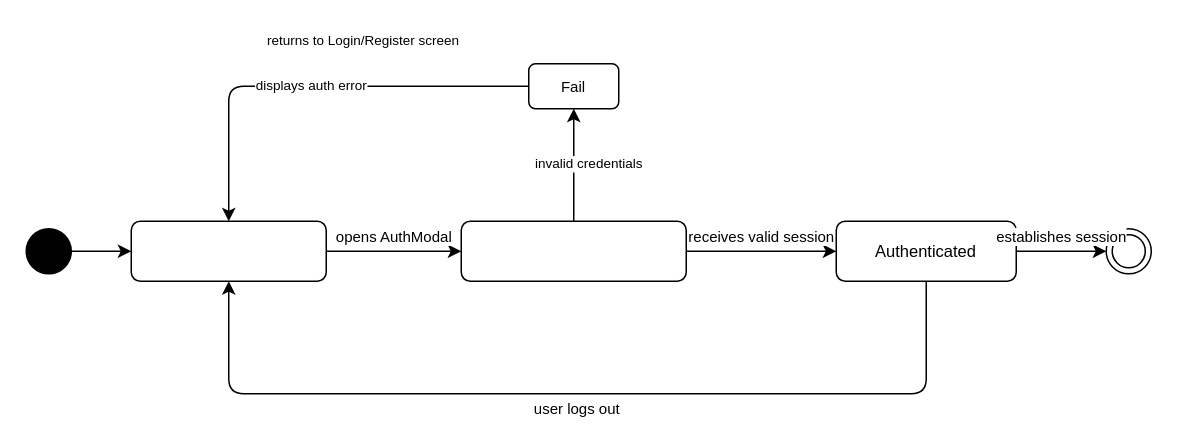
This 1178x443 diagram has some shape labels left out. Each missing label, with the centre of its shape:
"Authenticating with Supabase" belongs at (x=573, y=250).
"Not Authenticated" belongs at (x=228, y=250).
